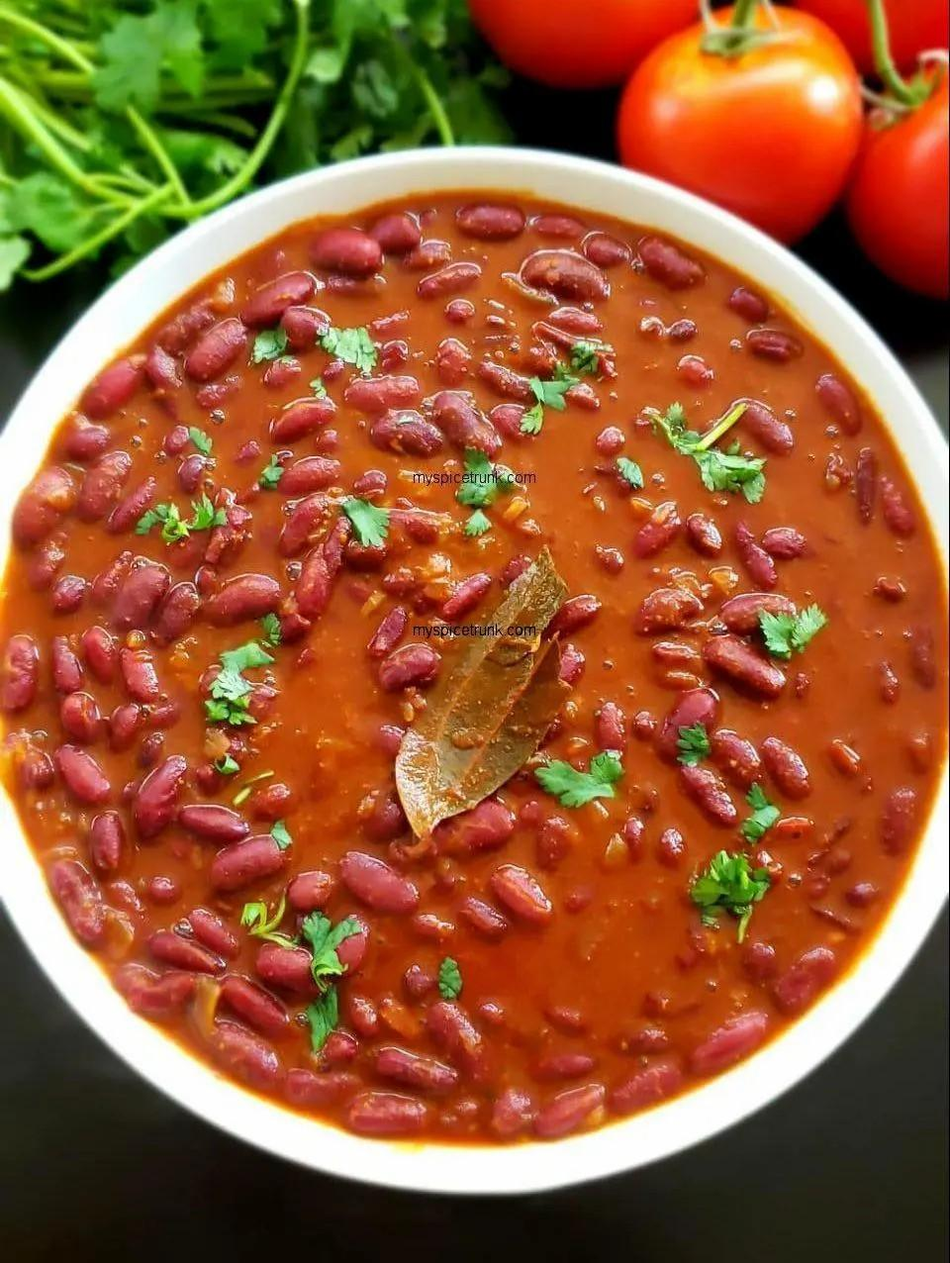RajmaCurry: (0, 195, 950, 1139)
